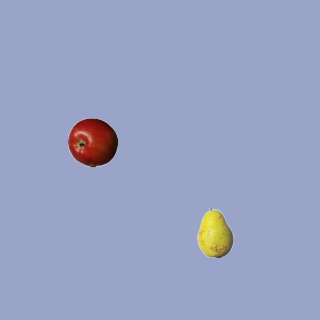Apple Braeburn: (67, 117, 117, 167)
Pear Monster: (190, 207, 240, 257)
